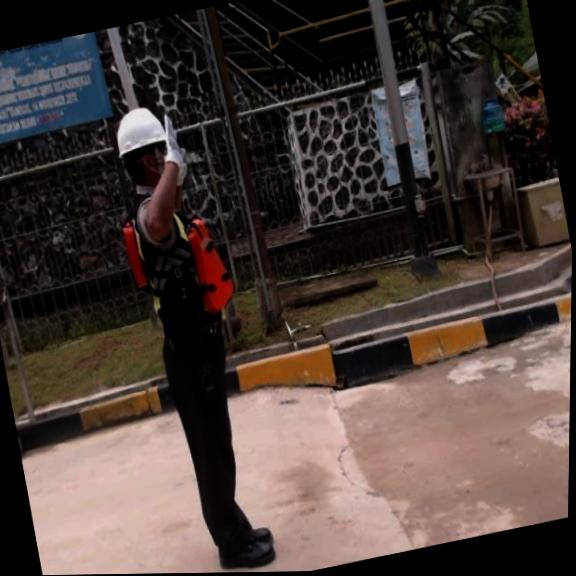safety_vest: (116, 198, 241, 334)
